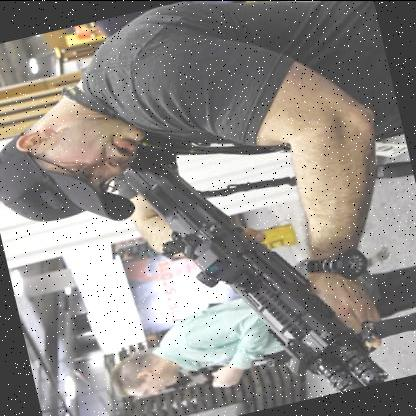rifle: (97, 100, 410, 416)
